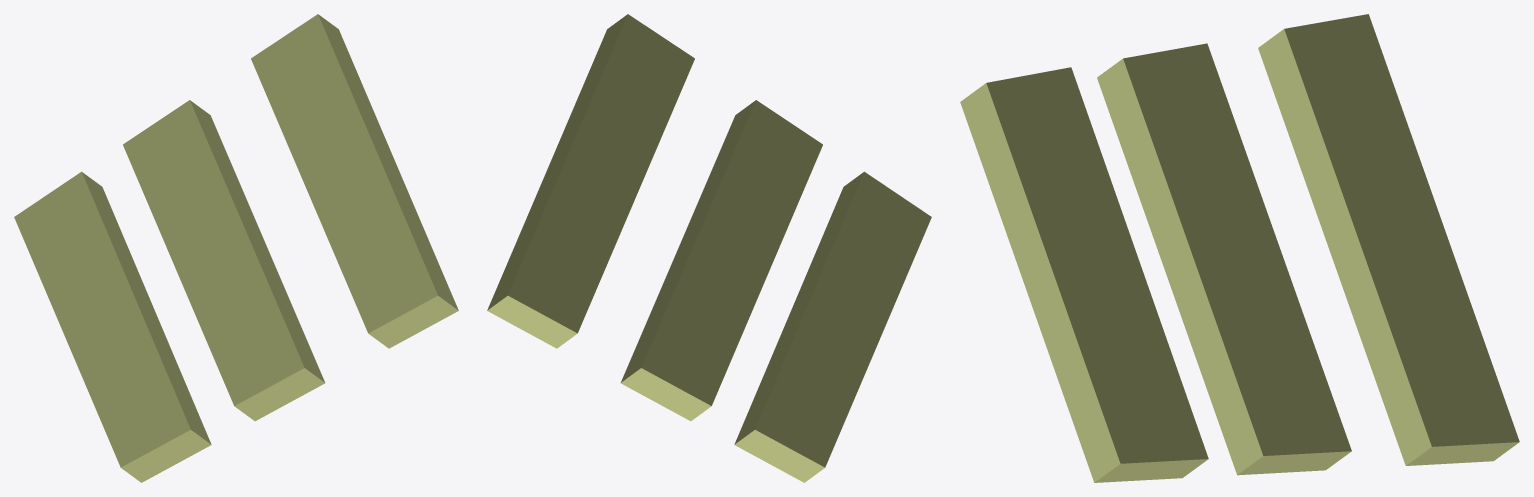
3 views of the same model, side by side, from view 1: azimuth 30°, elevation 25°; view 2: azimuth 150°, elevation 25°; view 3: azimuth 330°, elevation 25° (orthographic). The views are drawn at different scales.
Parts seen in each view (by area): view 1: 0_1_3_2_2_2_1_1; view 2: 0_1_3_2_2_2_1_1; view 3: 0_1_3_2_2_2_1_1.
Part boxes in pixels (x1,y1,x2,y2): 0_1_3_2_2_2_1_1: [14, 14, 458, 482]; 0_1_3_2_2_2_1_1: [487, 14, 931, 482]; 0_1_3_2_2_2_1_1: [960, 14, 1519, 482].
Size of the model in its own units: 70.53 by 64.47 by 6.
